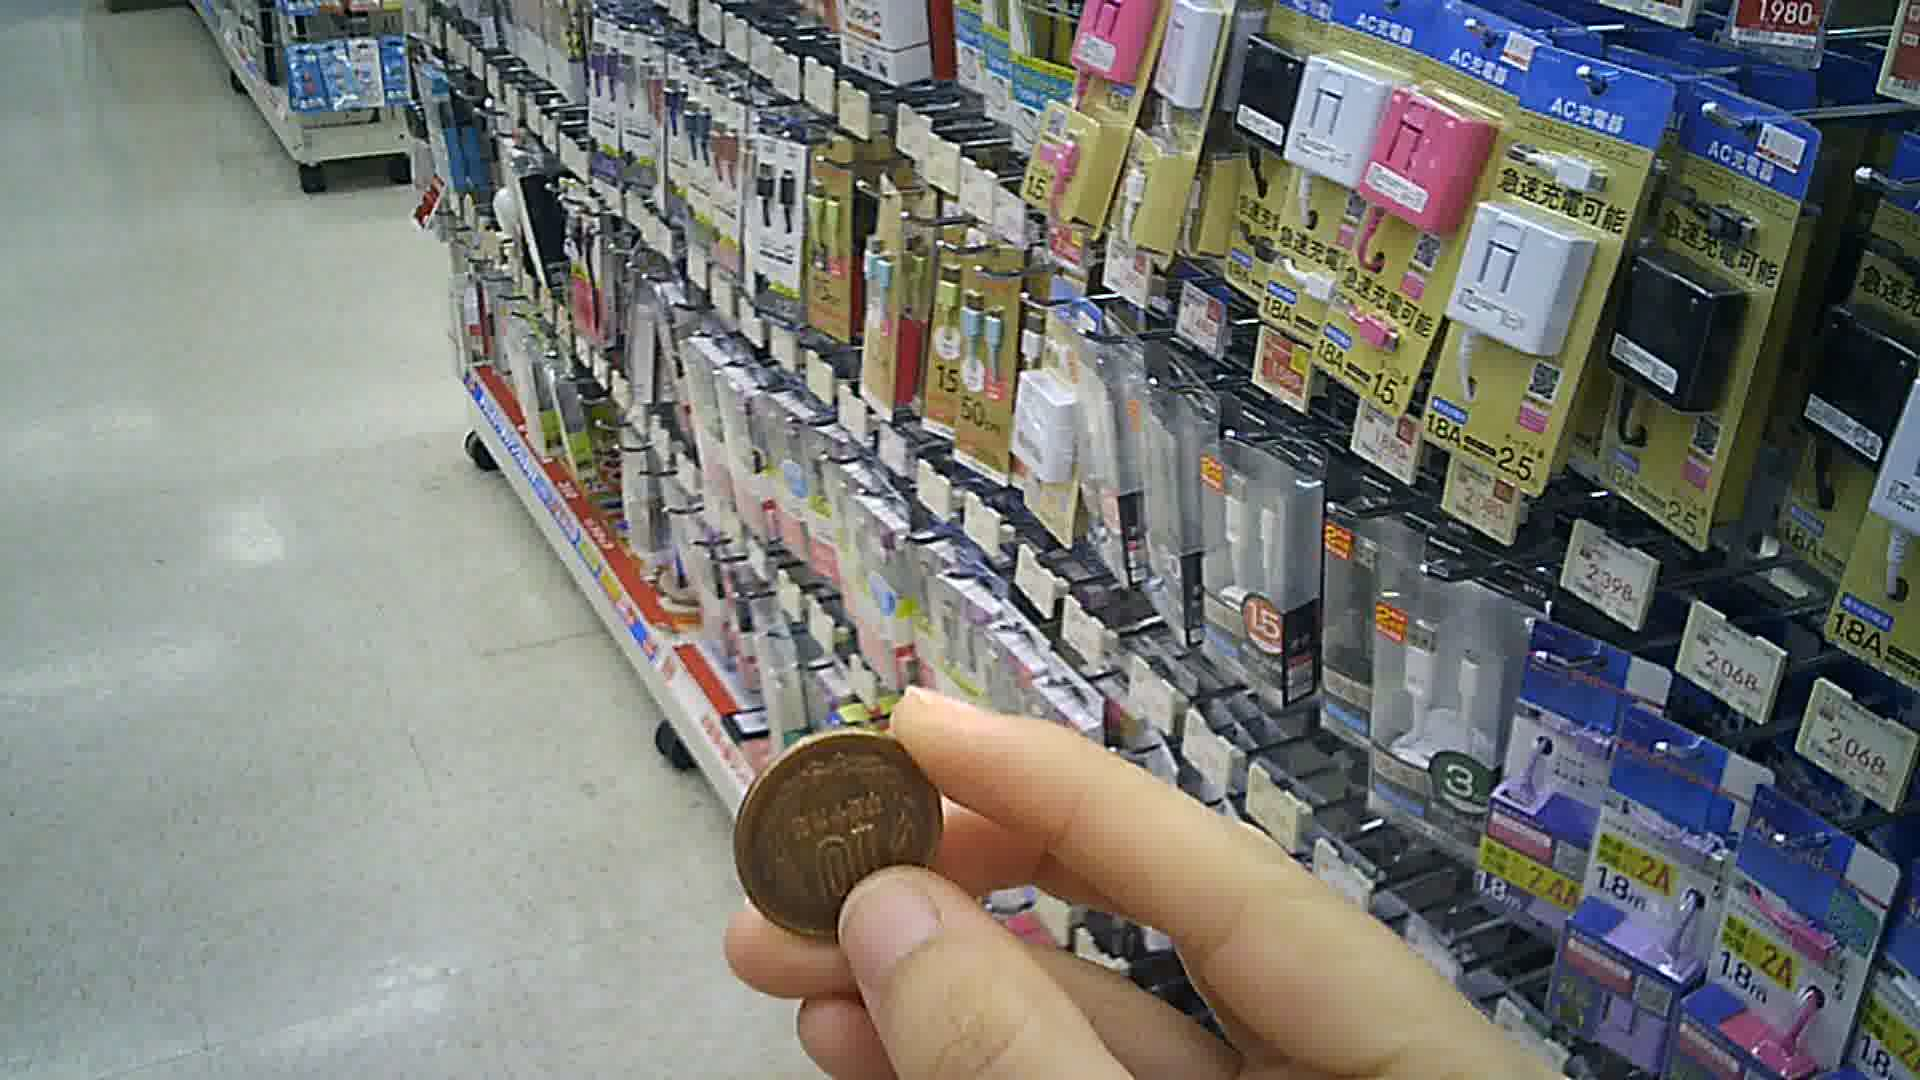10 Yen: (732, 720, 949, 944)
